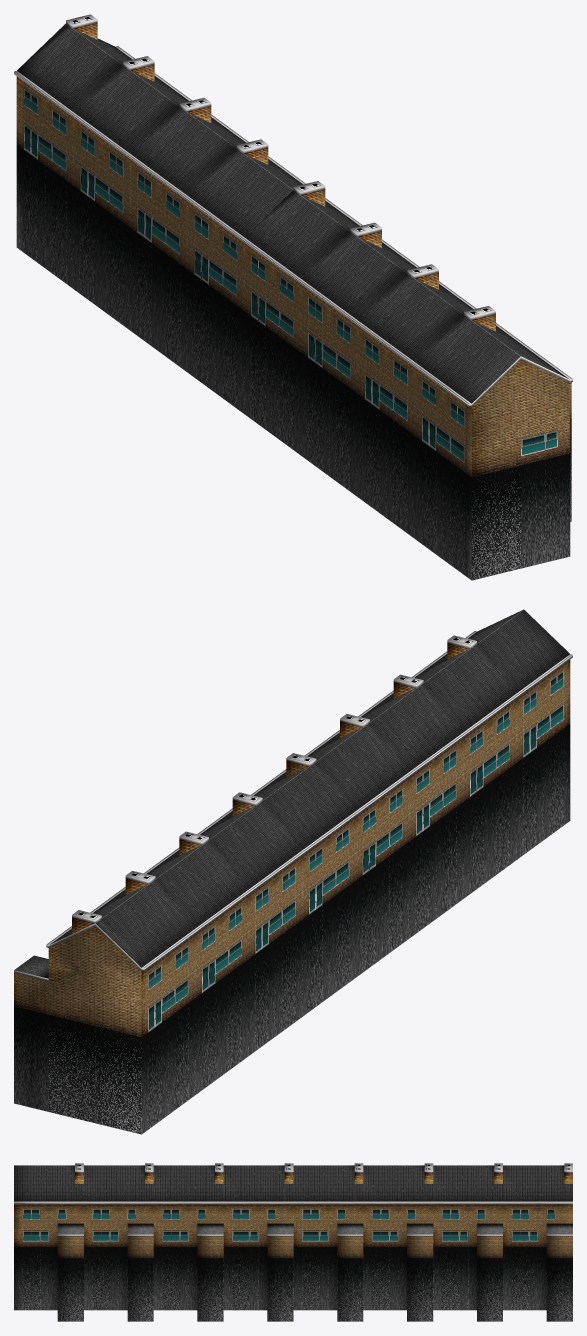
File: doorzon_mod1_4b.fbx
3 views of the same model, one above another, from view 1: azimuth 30°, elevation 25°; view 2: azimuth 150°, elevation 25°; view 3: azimuth 270°, elevation 25° (orthographic). The views are drawn at different scales.
Visible parts, largest first — view 1: doorzon_mod1_4b; view 2: doorzon_mod1_4b; view 3: doorzon_mod1_4b.
Part boxes in pixels (x1,y1,x2,y2): doorzon_mod1_4b: (14, 14, 572, 580); doorzon_mod1_4b: (14, 609, 572, 1134); doorzon_mod1_4b: (14, 1163, 572, 1321).
Bounding box in the file's own units: 1262 × 1879 × 7200.
